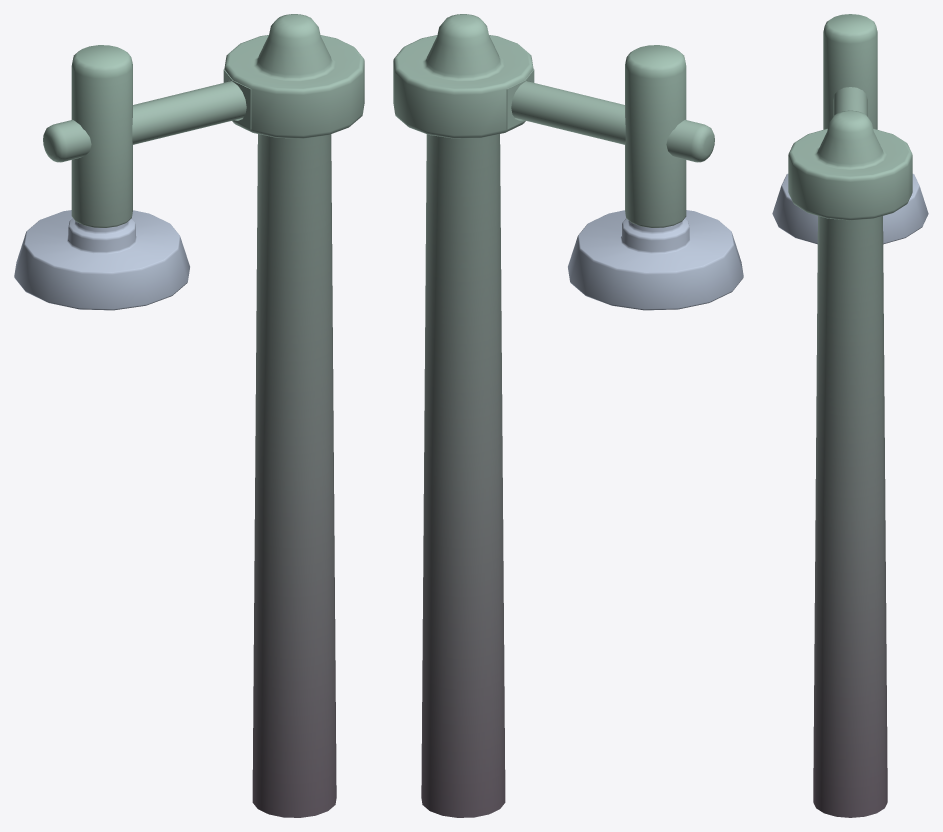
File: Obs_20.fbx
The picture shows the model from 3 angles, left to right: view 1: azimuth 30°, elevation 25°; view 2: azimuth 150°, elevation 25°; view 3: azimuth 270°, elevation 25°; orthographic projection. The views are drawn at different scales.
Visible parts, largest first — view 1: Obs_20_Base, Obs_20_Root; view 2: Obs_20_Base, Obs_20_Root; view 3: Obs_20_Base, Obs_20_Root.
Boxes of the visible parts, x1=… form: Obs_20_Base: x1=43, y1=14, x2=364, y2=817; Obs_20_Root: x1=14, y1=210, x2=189, y2=310; Obs_20_Base: x1=393, y1=14, x2=714, y2=817; Obs_20_Root: x1=568, y1=210, x2=743, y2=310; Obs_20_Base: x1=788, y1=14, x2=912, y2=817; Obs_20_Root: x1=772, y1=174, x2=928, y2=244.
Bounding box in the file's own units: 2.07 × 4.74 × 0.9636.
